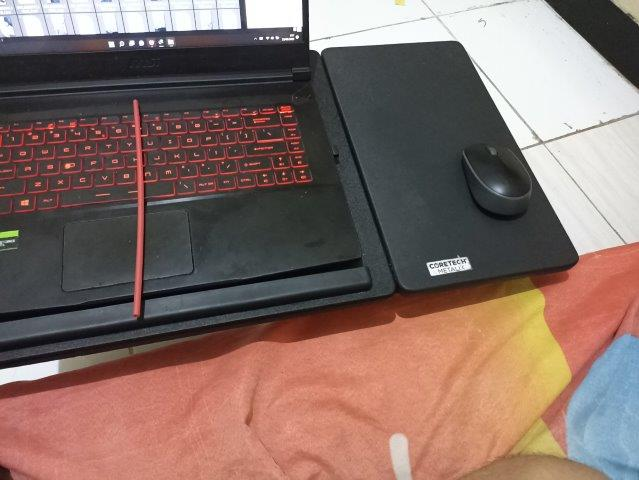sedotan: (133, 100, 145, 316)
